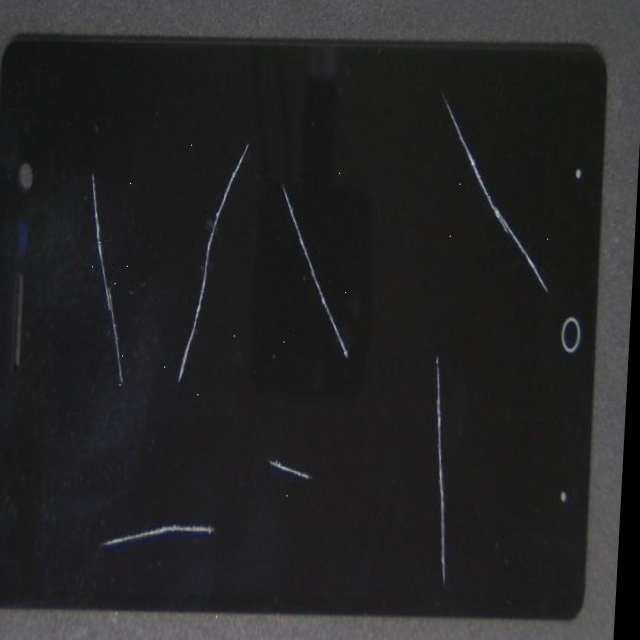scratch: (170, 76, 640, 640), (138, 0, 640, 321), (108, 167, 423, 640), (50, 99, 283, 564), (133, 22, 449, 306), (127, 259, 340, 640), (35, 0, 146, 337)
